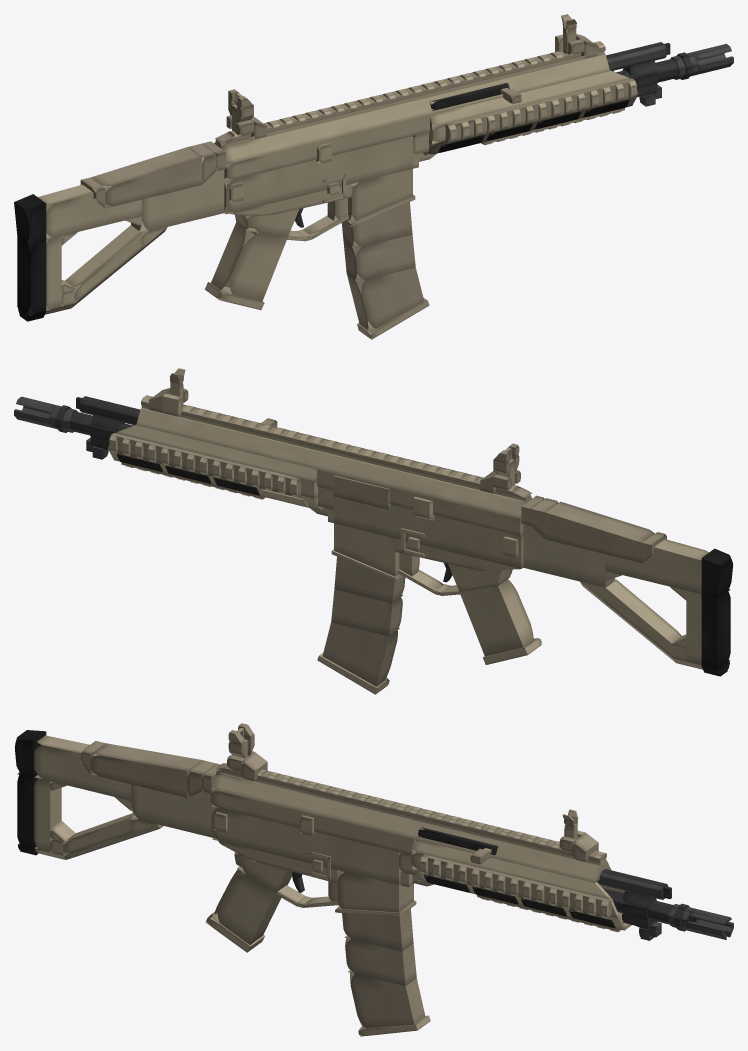
File: acr.obj
3 renders of one model, top to bottom at view 1: azimuth 30°, elevation 25°; view 2: azimuth 150°, elevation 25°; view 3: azimuth 330°, elevation 25°, orthographic.
Parts seen in each view (by area): view 1: gunModel4, gunModel0, gunModel59, gunModel78, gunModel3, gunModel49, gunModel48, ammoModel2, gunModel41, ammoModel1, gunModel53, gunModel63 (+17 smaller); view 2: gunModel4, gunModel0, gunModel59, gunModel78, gunModel49, ammoModel2, gunModel48, gunModel42, gunModel3, ammoModel1, gunModel53, gunModel2 (+17 smaller); view 3: gunModel4, gunModel0, gunModel59, gunModel3, ammoModel2, gunModel49, gunModel78, gunModel48, gunModel41, ammoModel1, gunModel2, ammoModel0 (+20 smaller).
Part boxes in pixels (x1,y1,x2,y2): gunModel4: (213,53,609,164); gunModel0: (224,136,412,214); gunModel59: (90,147,201,208); gunModel78: (211,222,287,301); gunModel3: (224,115,429,181); gunModel49: (38,184,141,239); gunModel48: (131,157,232,232); ammoModel2: (347,267,424,332); gunModel41: (430,70,630,126); ammoModel1: (343,234,415,281); gunModel53: (63,225,141,303); gunModel63: (17,235,46,315); gunModel4: (136,408,531,518); gunModel0: (334,496,523,568); gunModel59: (545,501,654,562); gunModel78: (459,579,535,656); gunModel49: (605,539,708,594); ammoModel2: (322,622,397,686); gunModel48: (523,524,616,587); gunModel42: (116,425,316,481); gunModel3: (317,469,523,535); ammoModel1: (331,589,402,636); gunModel53: (605,580,681,657); gunModel2: (334,523,399,576); gunModel4: (211,769,611,882); gunModel0: (211,807,400,884); gunModel59: (90,743,201,797); gunModel3: (210,791,414,854); ammoModel2: (350,972,425,1029); gunModel49: (34,735,131,800); gunModel78: (211,868,288,944); gunModel48: (131,784,217,838); gunModel41: (411,839,611,899); ammoModel1: (345,935,416,985); gunModel2: (337,870,413,912); ammoModel0: (342,908,413,951).
Size of the model in its own units: 21.95 by 8.05 by 2.
